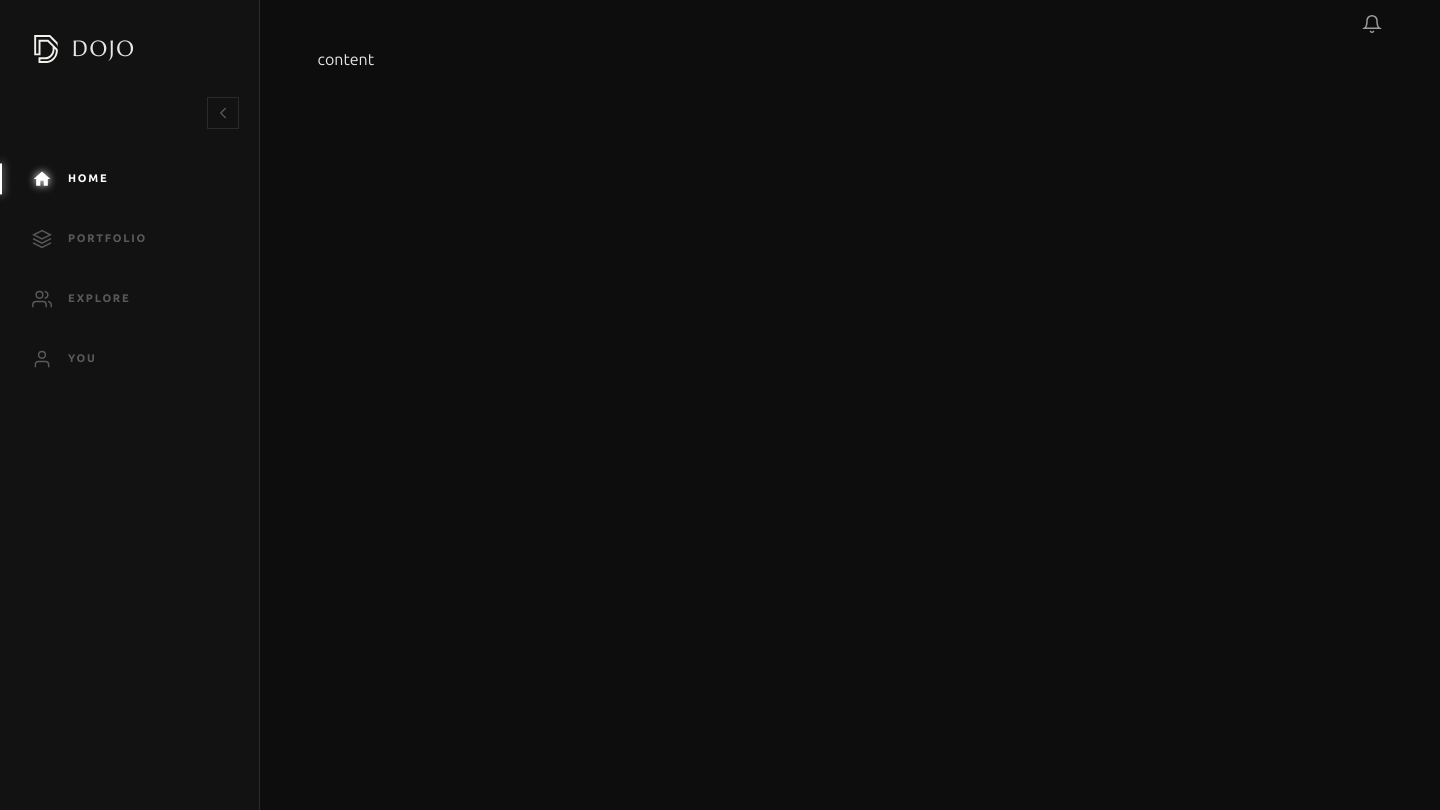
Test: toggling flips the collapsed class, the accessible name, and persists it
Click the button named "Collapse sidebar": x=223, y=113 [207,97,239,129]
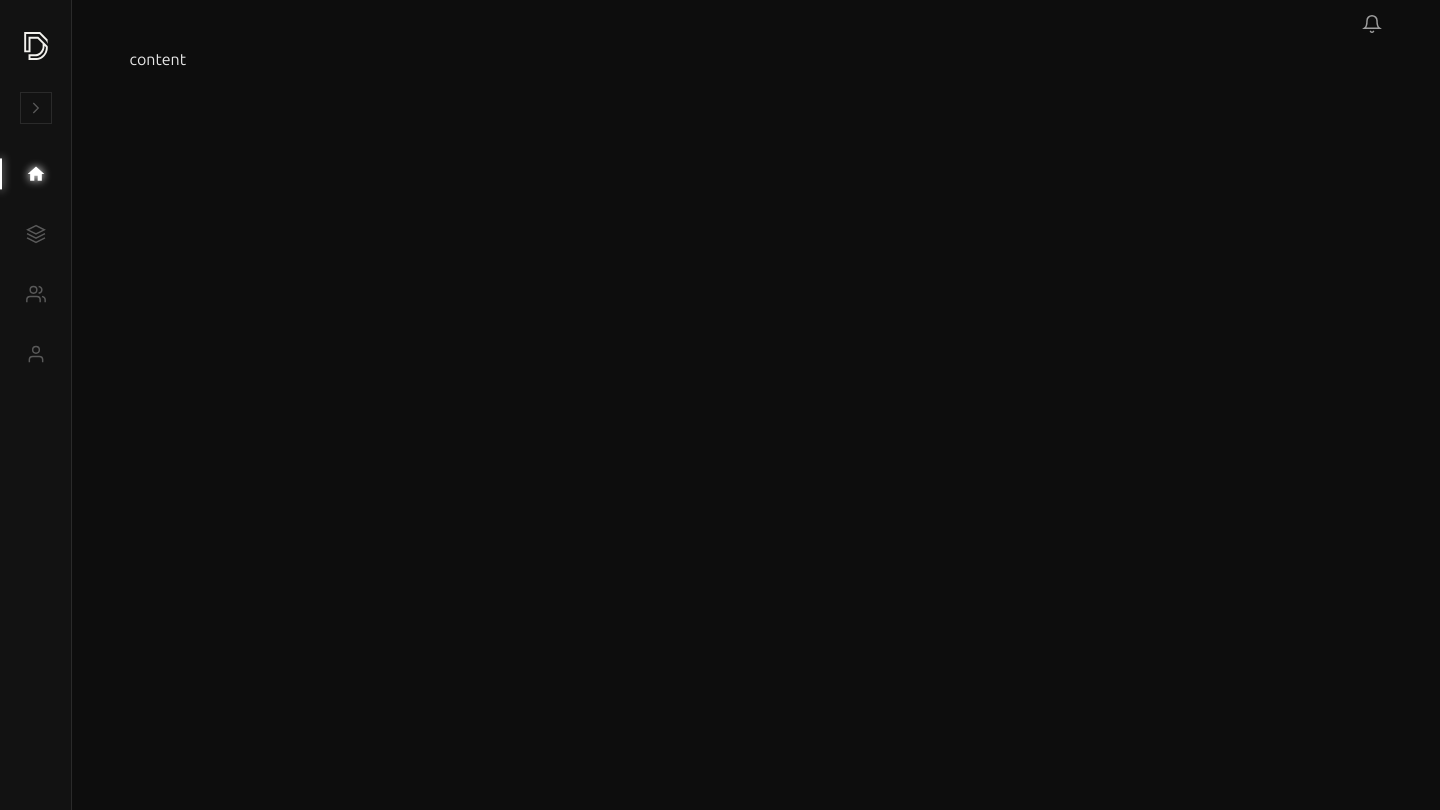
expect the navigation bar with class "dojo-shell-nav--collapsed" is shown: met, box [0,0,72,809]
